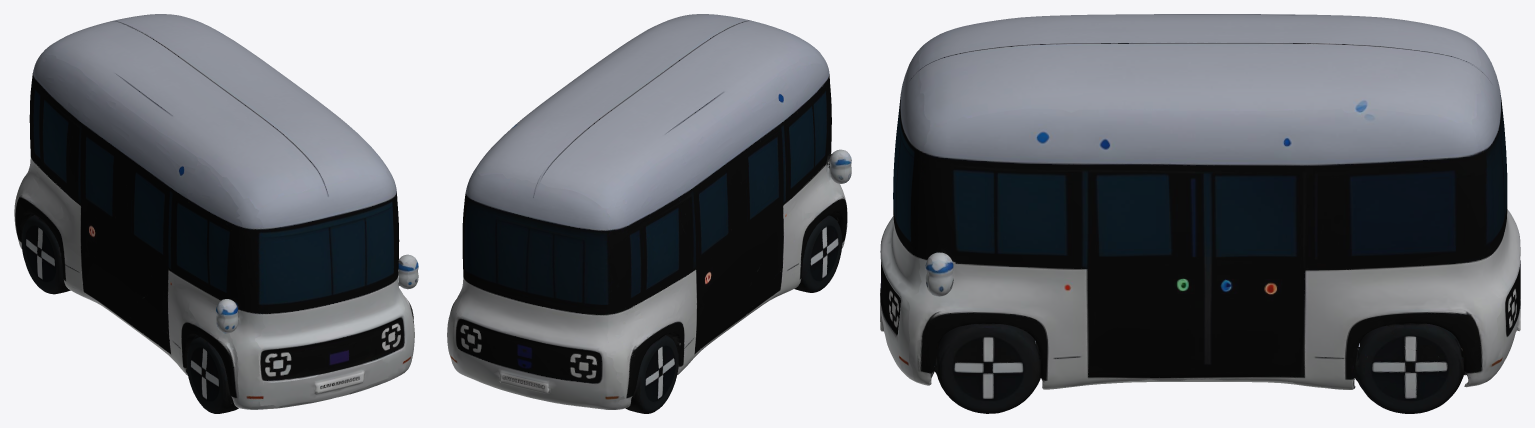
File: roii_body.glb
3 views of the same model, side by side, from view 1: azimuth 30°, elevation 25°; view 2: azimuth 150°, elevation 25°; view 3: azimuth 270°, elevation 25° (orthographic). The views are drawn at different scales.
Parts seen in each view (by area): view 1: Body; view 2: Body; view 3: Body.
Part boxes in pixels (x1,y1,x2,y2): Body: (14, 14, 418, 413); Body: (447, 14, 851, 413); Body: (880, 14, 1520, 413).
Size of the model in its own units: 0.9158 by 1.08 by 1.99.
1 material, 1 textured.
